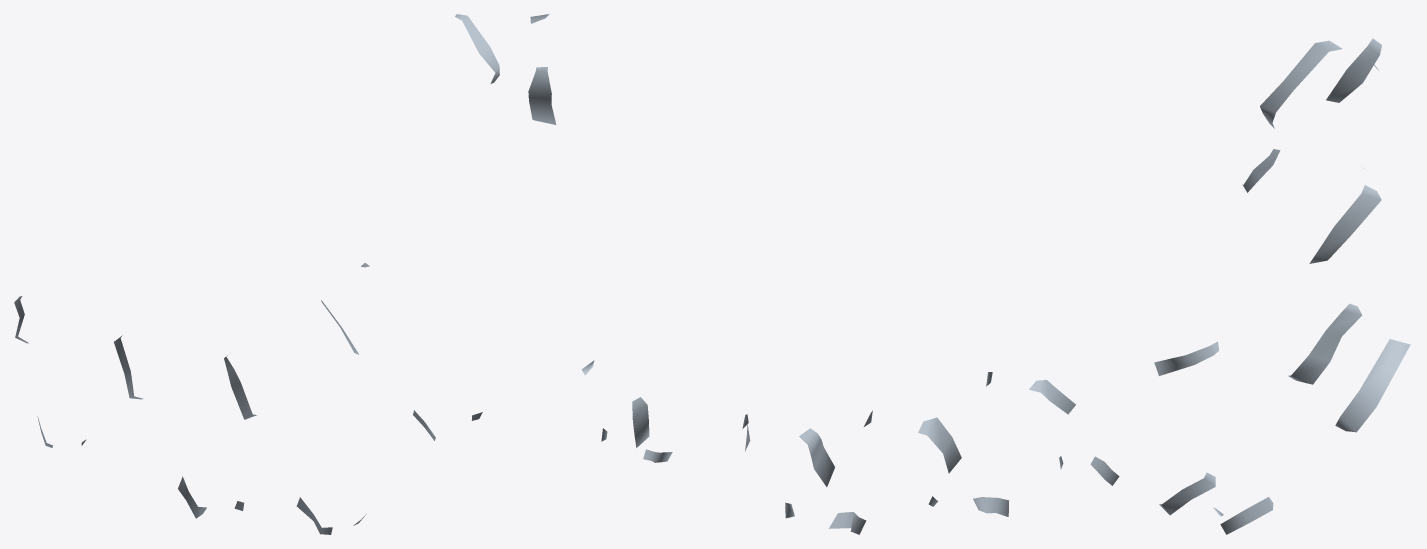
The model's file is collateral-interphalangeal-ligaments-of-hand-l.glb.
3 views of the same model, side by side, from view 1: azimuth 30°, elevation 25°; view 2: azimuth 150°, elevation 25°; view 3: azimuth 270°, elevation 25° (orthographic). The views are drawn at different scales.
Visible parts, largest first — view 1: Collateral interphalangeal ligaments of hand.l; view 2: Collateral interphalangeal ligaments of hand.l; view 3: Collateral interphalangeal ligaments of hand.l.
Boxes of the visible parts, x1,y1,x2,y2 form: Collateral interphalangeal ligaments of hand.l: (14, 14, 499, 534); Collateral interphalangeal ligaments of hand.l: (528, 14, 1119, 534); Collateral interphalangeal ligaments of hand.l: (1154, 38, 1410, 534).
Bounding box in the file's own units: 0.1045 × 0.0913 × 0.038.
